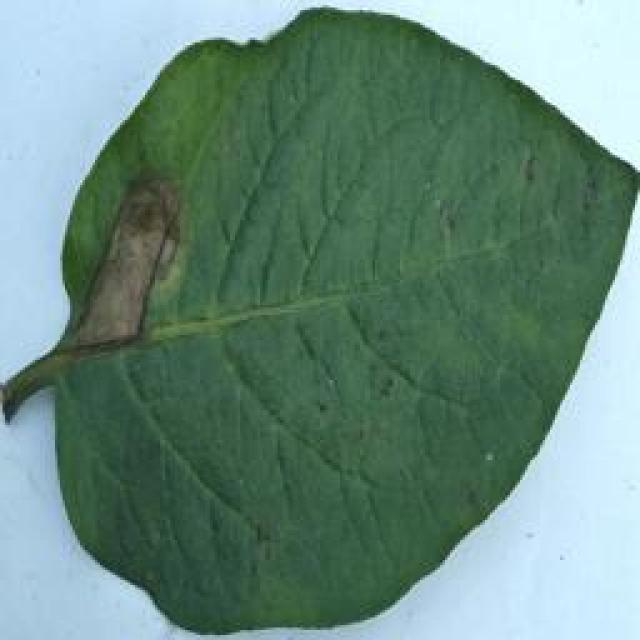Potato_Late_Blight: (9, 9, 627, 632)
